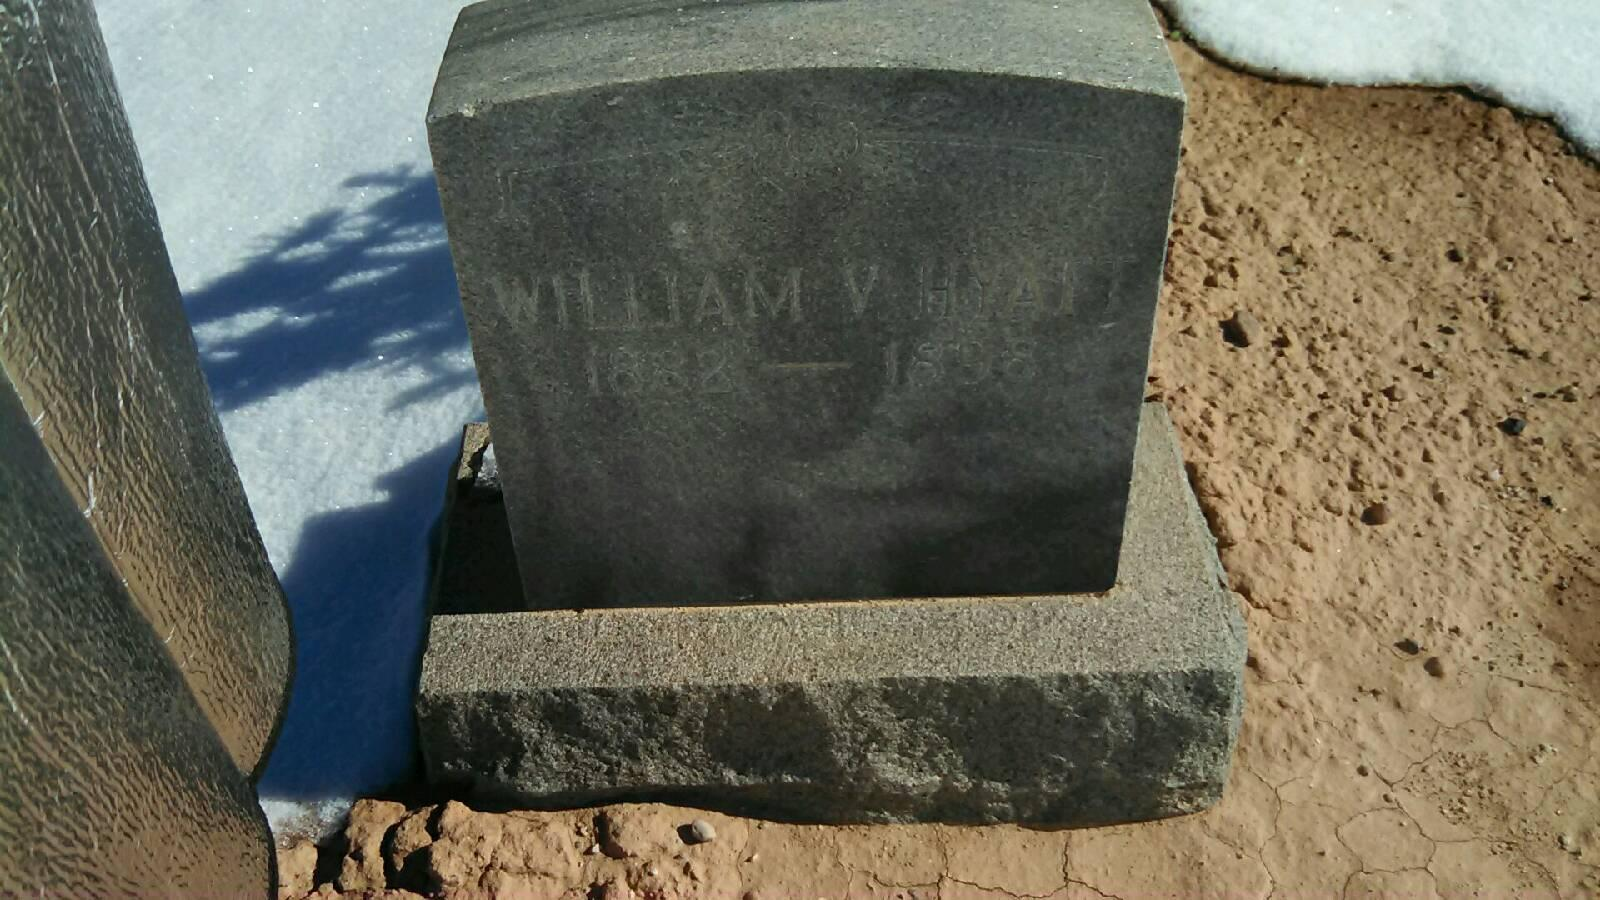upright: (393, 0, 1253, 842)
